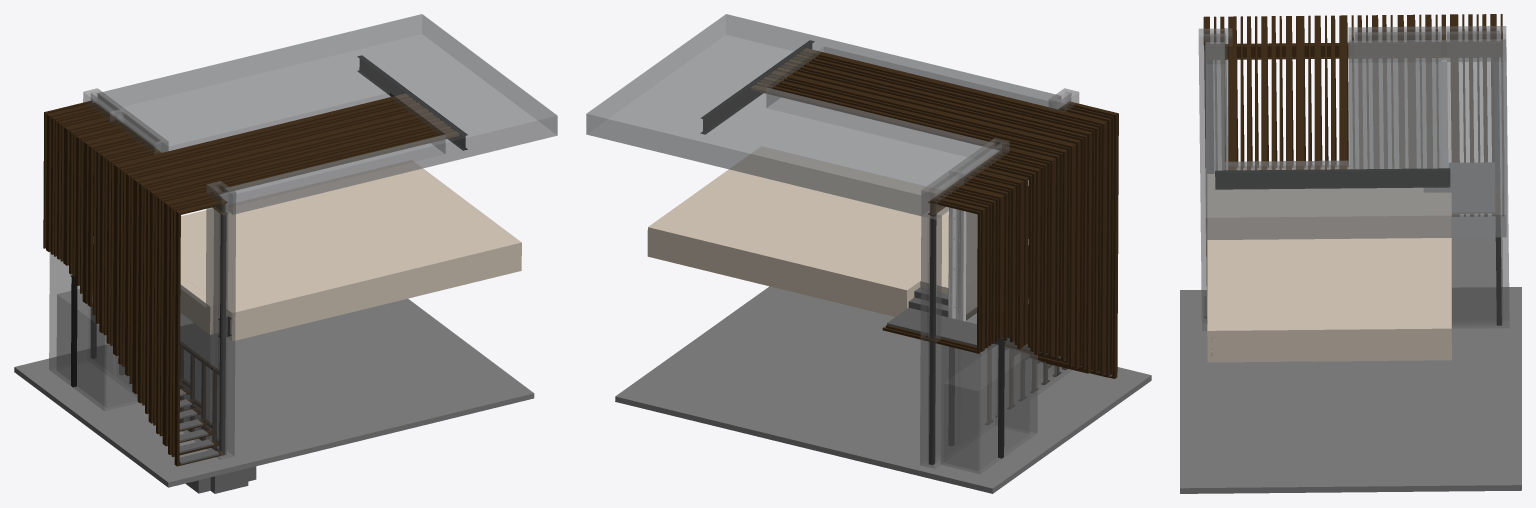
The model's file is doumani_exterior_stair_and_louvers 1.glb.
The picture shows the model from 3 angles, left to right: view 1: azimuth 30°, elevation 25°; view 2: azimuth 150°, elevation 25°; view 3: azimuth 270°, elevation 25°; orthographic projection. The views are drawn at different scales.
Visible parts, largest first — view 1: Object_338, Object_336, Object_385, Object_400, Object_398, Object_277, Object_279, Object_281, Object_303, Object_221, Object_223, Object_219 (+41 smaller); view 2: Object_338, Object_336, Object_385, Object_400, Object_398, Object_4, Object_277, Object_279, Object_281, Object_381, Object_303, Object_219 (+45 smaller); view 3: Object_338, Object_336, Object_385, Object_400, Object_391, Object_381, Object_402, Object_389, Object_277, Object_281, Object_279, Object_223 (+14 smaller).
Boxes of the visible parts, x1,y1,x2,y2 form: Object_338: [14, 298, 534, 487]; Object_336: [98, 14, 557, 214]; Object_385: [180, 160, 521, 341]; Object_400: [90, 108, 236, 459]; Object_398: [49, 252, 138, 410]; Object_277: [164, 131, 459, 205]; Object_279: [134, 108, 428, 183]; Object_281: [114, 93, 409, 168]; Object_303: [162, 202, 169, 445]; Object_221: [139, 112, 433, 186]; Object_223: [126, 102, 420, 176]; Object_219: [150, 120, 444, 194]; Object_338: [615, 286, 1151, 493]; Object_336: [586, 14, 1060, 215]; Object_385: [647, 146, 1028, 316]; Object_400: [920, 88, 1079, 468]; Object_398: [940, 338, 1037, 473]; Object_4: [948, 208, 966, 321]; Object_277: [802, 48, 1106, 125]; Object_279: [771, 70, 1075, 147]; Object_281: [751, 85, 1055, 162]; Object_381: [887, 307, 976, 346]; Object_303: [1100, 122, 1107, 375]; Object_219: [788, 59, 1091, 135]; Object_338: [1180, 287, 1521, 493]; Object_336: [1205, 39, 1506, 240]; Object_385: [1207, 167, 1451, 362]; Object_400: [1198, 26, 1509, 330]; Object_391: [1215, 168, 1450, 189]; Object_381: [1449, 162, 1494, 213]; Object_402: [1446, 26, 1506, 61]; Object_389: [1207, 42, 1501, 59]; Object_277: [1228, 16, 1236, 170]; Object_281: [1339, 15, 1347, 169]; Object_279: [1296, 16, 1304, 169]; Object_223: [1314, 15, 1320, 169].
Size of the model in its own units: 501 by 354 by 333.
